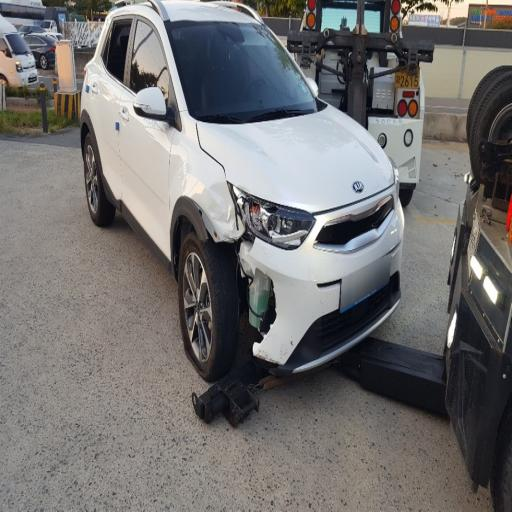broken: (197, 143, 320, 384)
